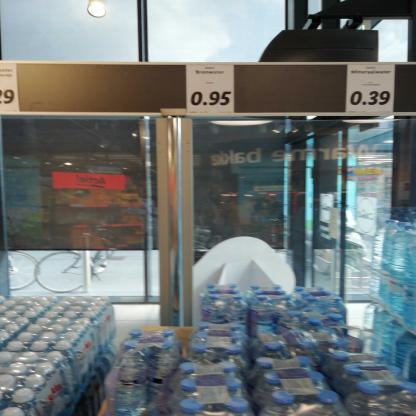prtg: (186, 66, 235, 114), (347, 66, 396, 114), (1, 65, 21, 114)
